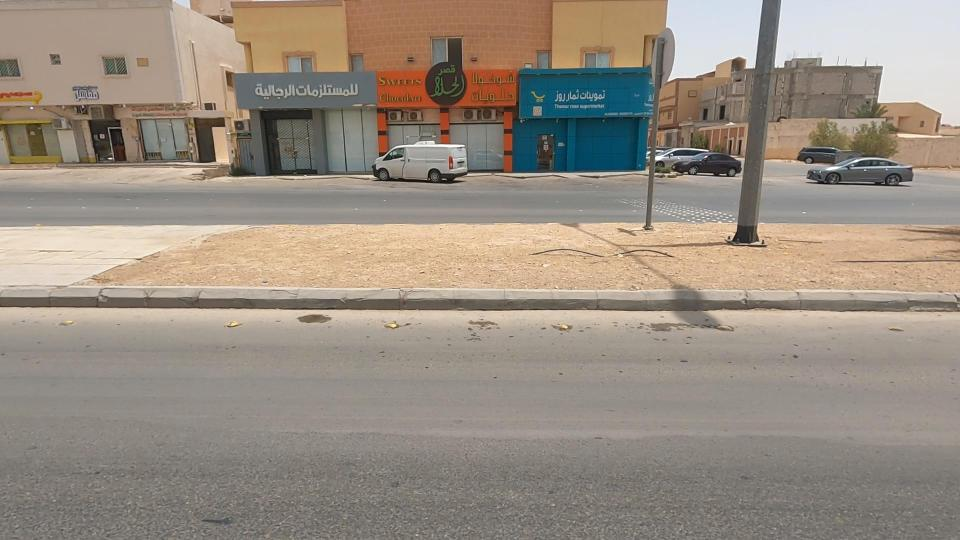CLUTTER_SIDEWALK: (144, 187, 742, 320), (520, 188, 960, 335)
